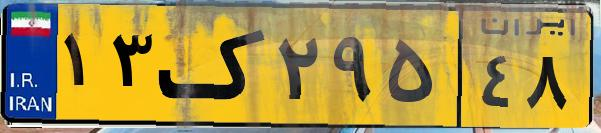1: (57, 26, 110, 100)
2: (270, 28, 330, 110)
3: (110, 28, 158, 98)
4: (475, 38, 525, 113)
5: (385, 28, 445, 110)
8: (525, 38, 570, 115)
9: (330, 28, 385, 110)
ک: (158, 12, 270, 120)
